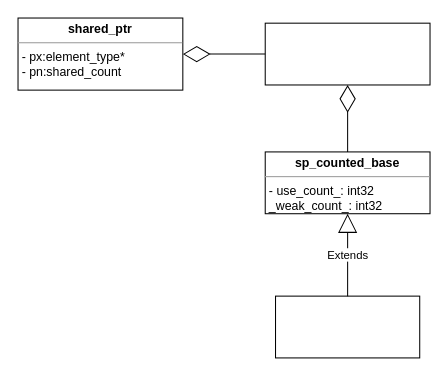
This 448x376 diagram has some shape labels left out. Each missing label, with the centre of its shape:
shared_count - pi_: sp_counted_base*: [347,53]
sp_counted_impl_p - px_:X*: [347,326]
